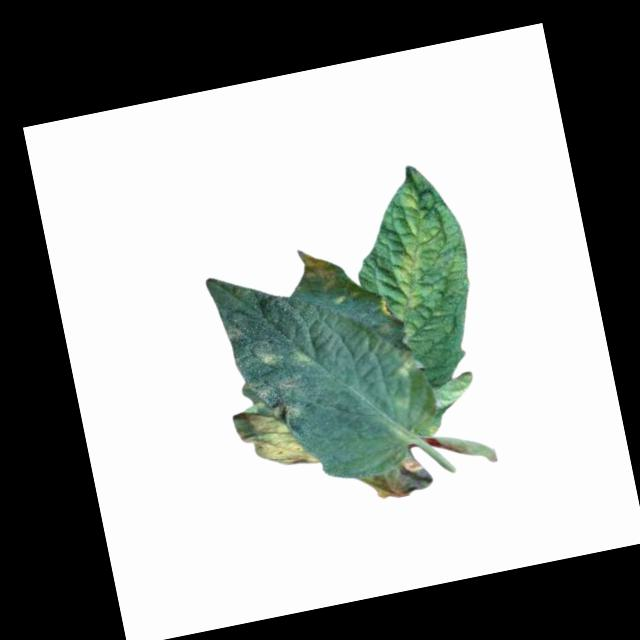Leaf_Mold: (224, 368, 324, 480), (379, 177, 452, 312), (360, 446, 434, 505), (292, 240, 356, 297)
